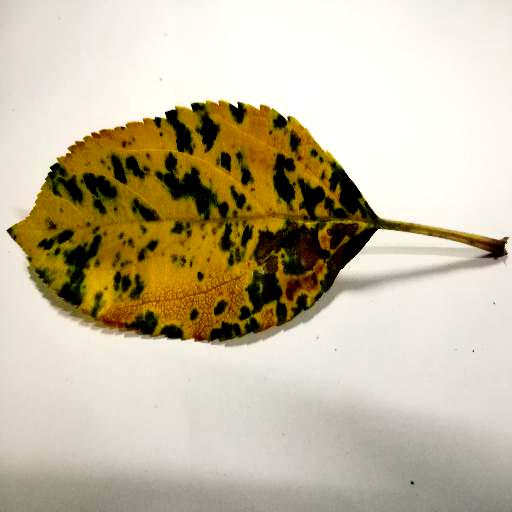Brown_Spot: (228, 224, 362, 339)
